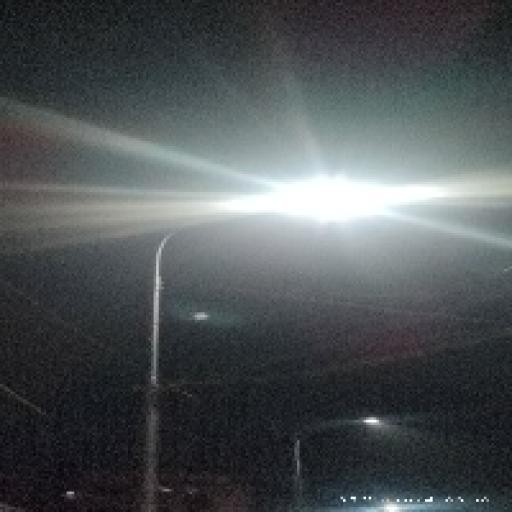Working: (234, 167, 436, 230)
